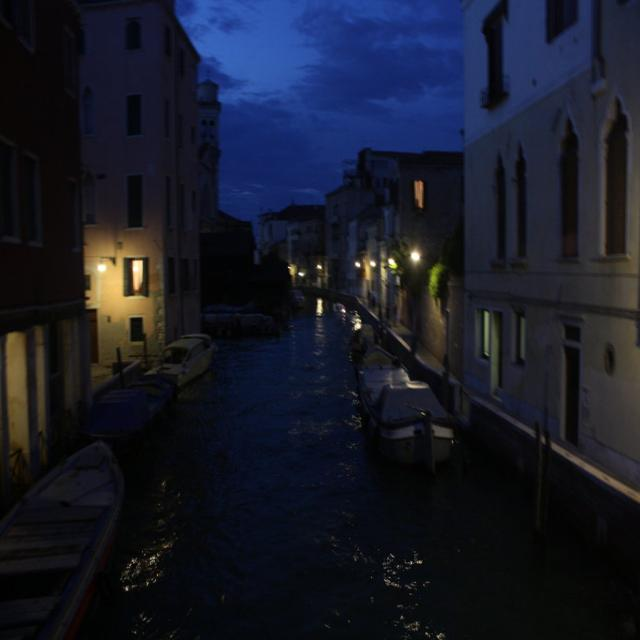Boat: (0, 412, 122, 640), (346, 346, 480, 503), (105, 304, 232, 397)
